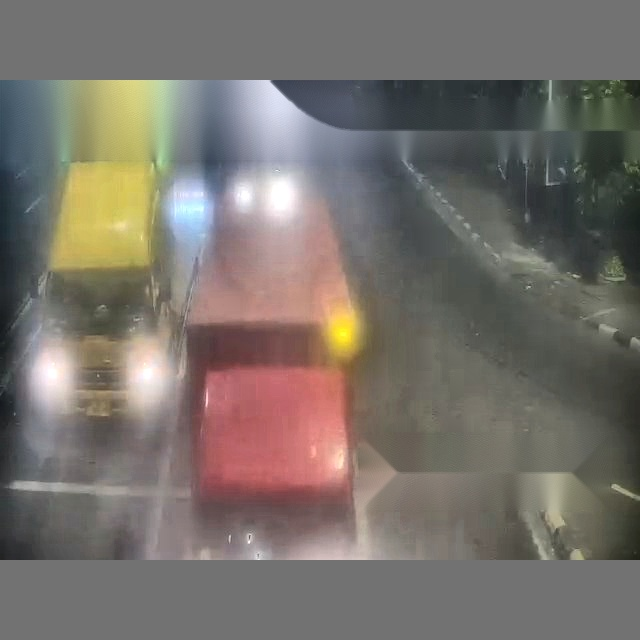Truk: (190, 64, 640, 556)
